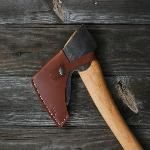Kapak: (17, 18, 137, 150)
